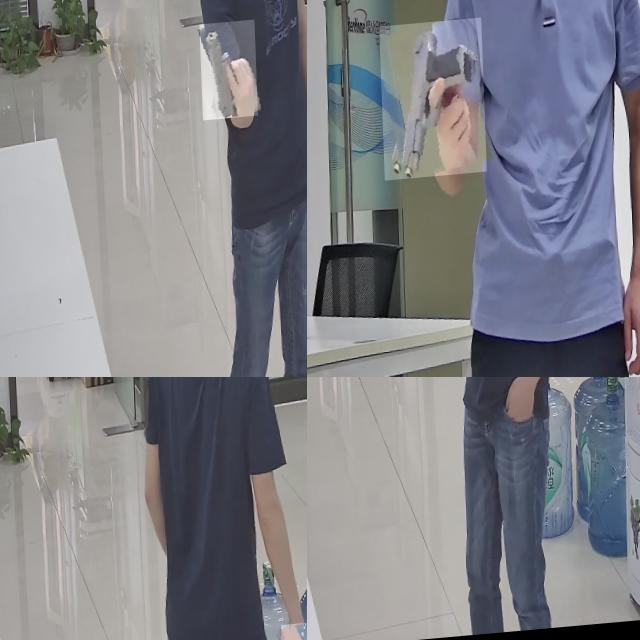gun-knife-thesis - v11 Yolov5 augmented: (380, 22, 486, 183), (198, 26, 255, 126), (375, 377, 439, 442)
